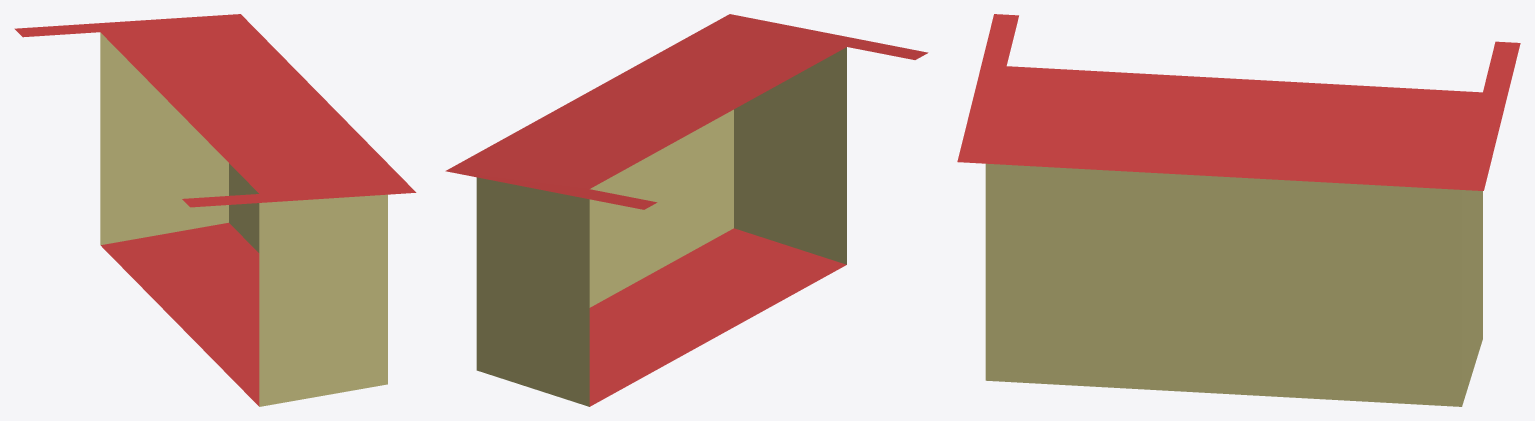
The picture shows the model from 3 angles, left to right: view 1: azimuth 30°, elevation 25°; view 2: azimuth 150°, elevation 25°; view 3: azimuth 270°, elevation 25°; orthographic projection. The views are drawn at different scales.
Bounding box in the file's own units: 6.91 × 11.1 × 5.59.
